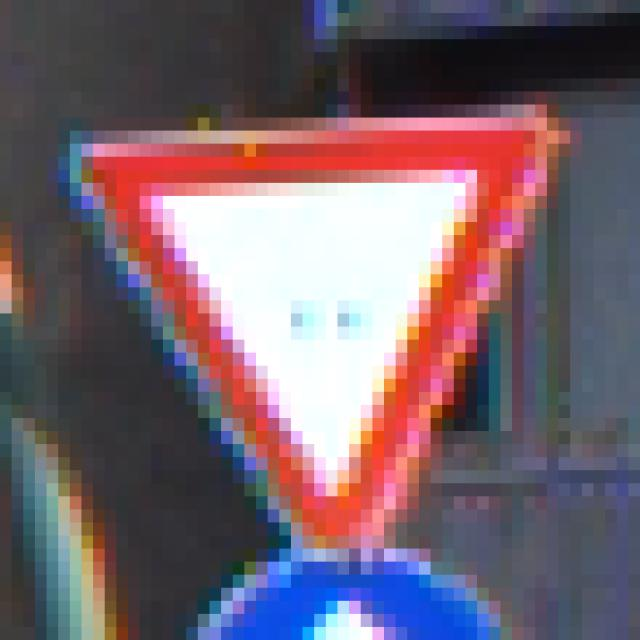Give Way: (59, 79, 583, 576)
